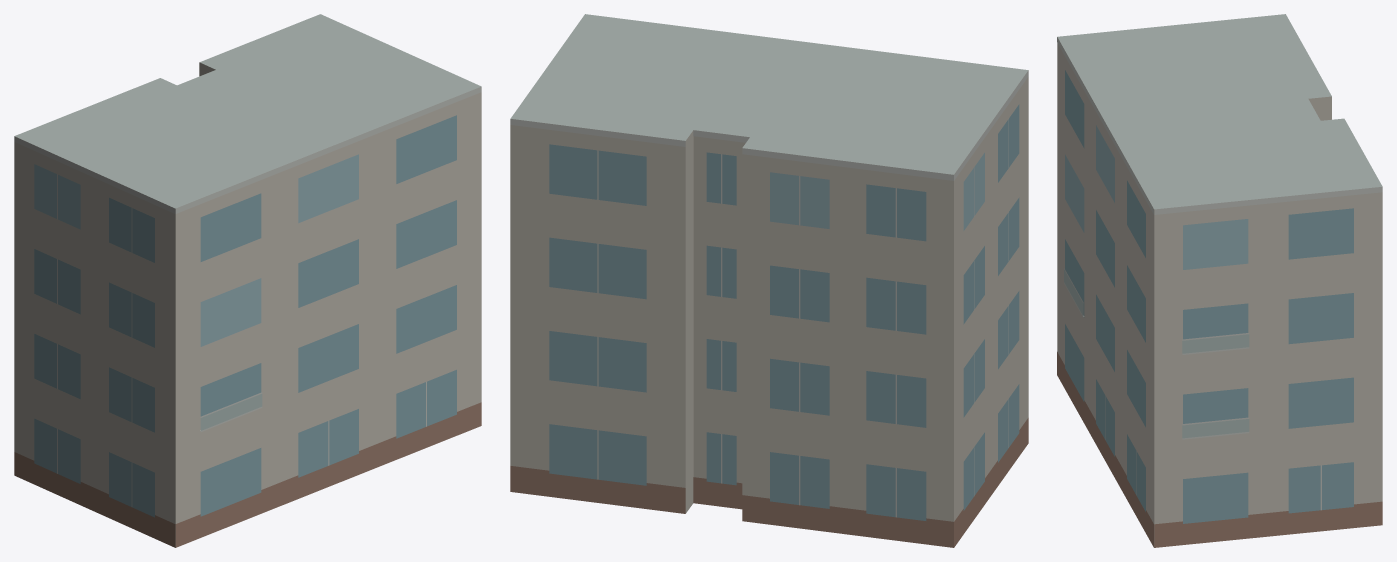
File: survey-upis-33006510.glb
The picture shows the model from 3 angles, left to right: view 1: azimuth 30°, elevation 25°; view 2: azimuth 150°, elevation 25°; view 3: azimuth 270°, elevation 25°; orthographic projection. The views are drawn at different scales.
Parts seen in each view (by area): view 1: survey-upis-33006510.tmp; view 2: survey-upis-33006510.tmp; view 3: survey-upis-33006510.tmp.
Part boxes in pixels (x1=…): survey-upis-33006510.tmp: x1=14, y1=14, x2=481, y2=547; survey-upis-33006510.tmp: x1=510, y1=14, x2=1028, y2=547; survey-upis-33006510.tmp: x1=1057, y1=14, x2=1382, y2=547.
Bounding box in the file's own units: 18.34 × 14.8 × 12.91.
